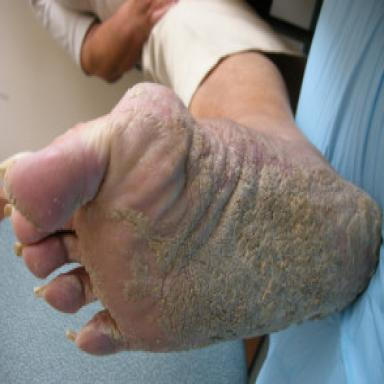eczema: (79, 86, 380, 351), (0, 161, 48, 236)
